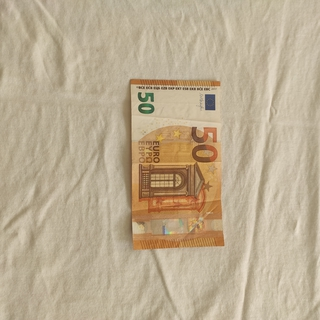50EUROFront: (130, 79, 225, 249)
